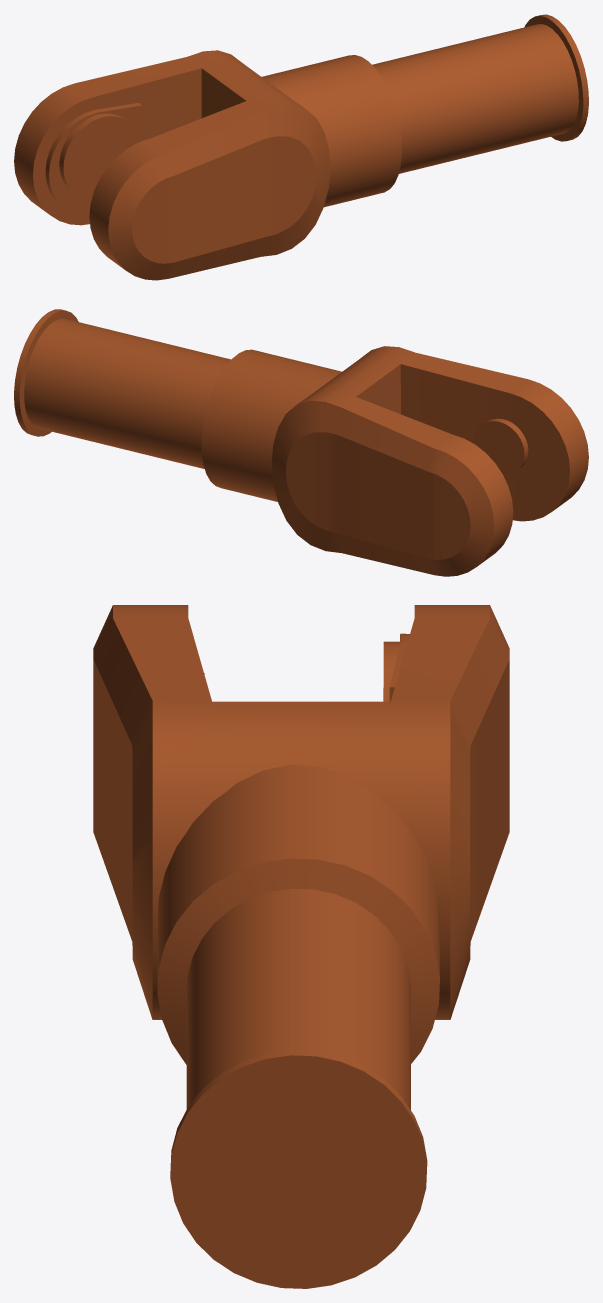
The model's file is RobotArm_ScopeArm.glb.
3 views of the same model, one above another, from view 1: azimuth 30°, elevation 25°; view 2: azimuth 150°, elevation 25°; view 3: azimuth 270°, elevation 25° (orthographic). The views are drawn at different scales.
Visible parts, largest first — view 1: RobotArmScopeArm; view 2: RobotArmScopeArm; view 3: RobotArmScopeArm.
Boxes of the visible parts, x1,y1,x2,y2 form: RobotArmScopeArm: (14,14,588,280); RobotArmScopeArm: (14,309,588,576); RobotArmScopeArm: (93,605,509,1288).
Bounding box in the file's own units: 1.05 × 0.3014 × 0.3823.
